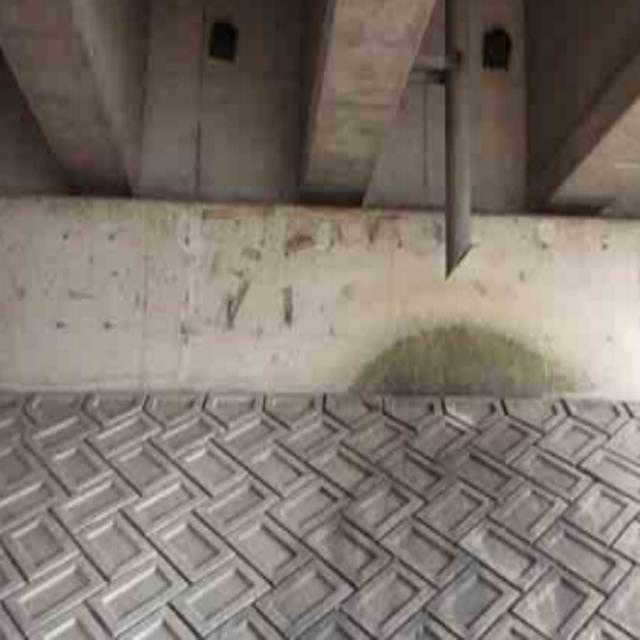leakage: (352, 322, 587, 414)
